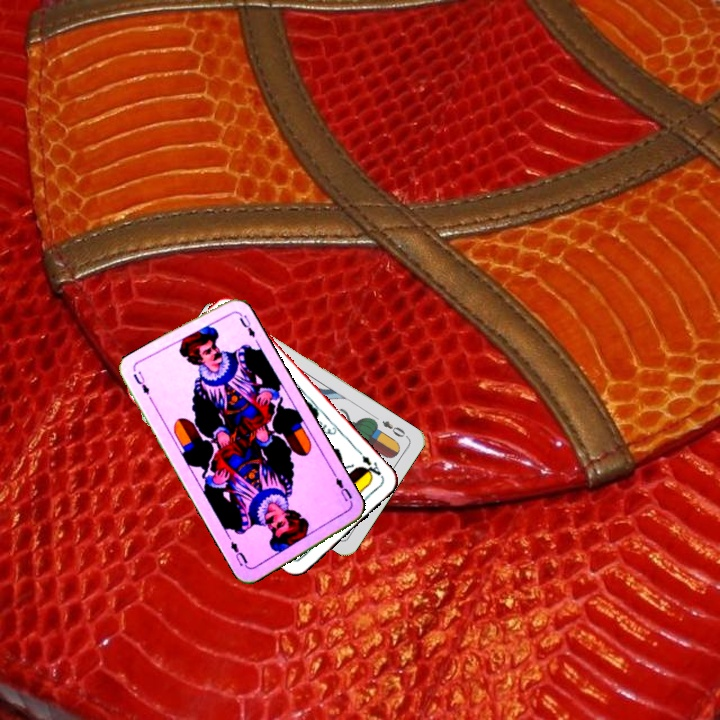EA: (357, 451, 385, 481)
EO: (378, 416, 411, 440)
EU: (330, 470, 355, 507), (129, 367, 152, 398)
